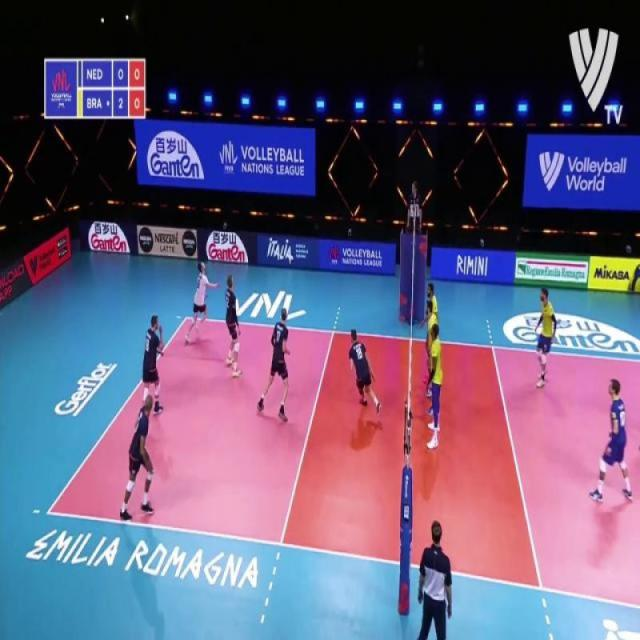volleyball: (625, 255, 640, 292)
